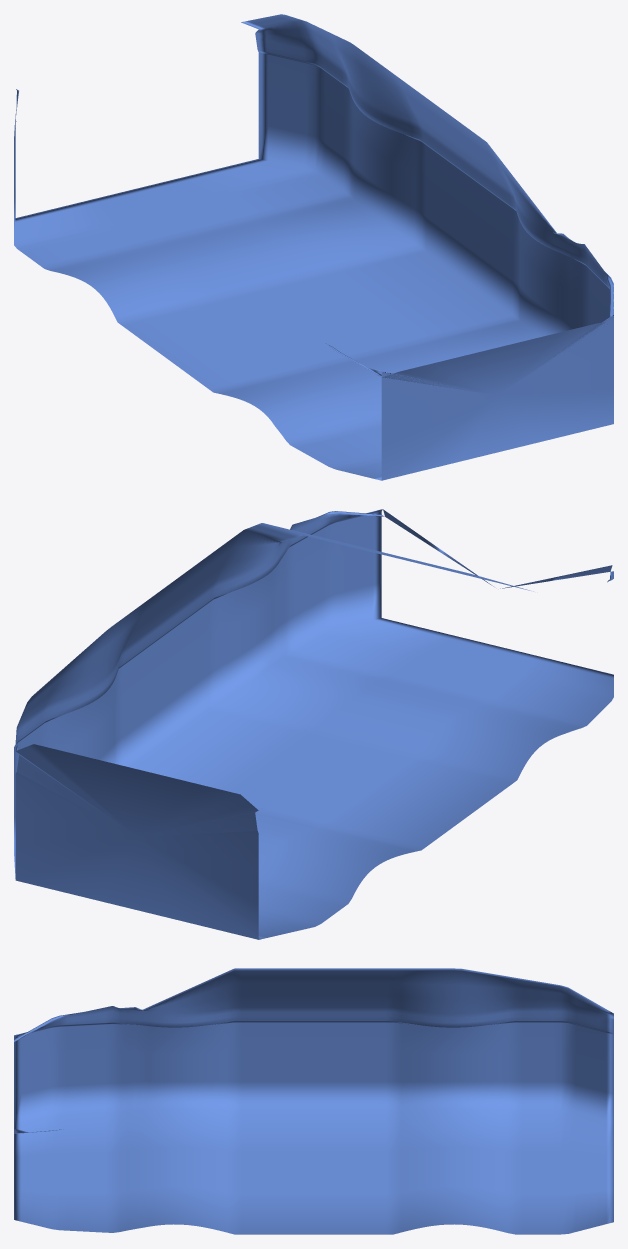
Rendered from dominus_mesh_a_v01.glb.
The picture shows the model from 3 angles, top to bottom: view 1: azimuth 30°, elevation 25°; view 2: azimuth 150°, elevation 25°; view 3: azimuth 270°, elevation 25°; orthographic projection. The views are drawn at different scales.
Visible parts, largest first — view 1: Dominus_Body; view 2: Dominus_Body; view 3: Dominus_Body.
Boxes of the visible parts, <box> form: Dominus_Body: <box>14,14,613,480</box>; Dominus_Body: <box>14,509,613,939</box>; Dominus_Body: <box>14,968,613,1234</box>.
Size of the model in its own units: 2.2 by 1.35 by 4.52.
